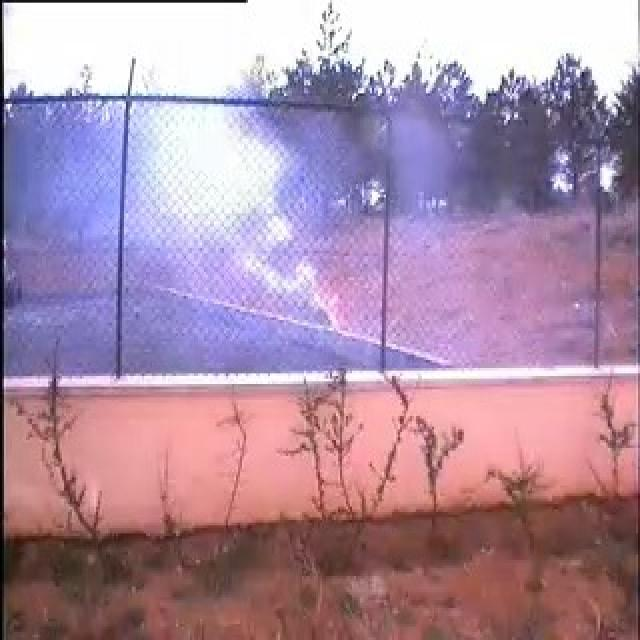smoke: (50, 104, 352, 361)
